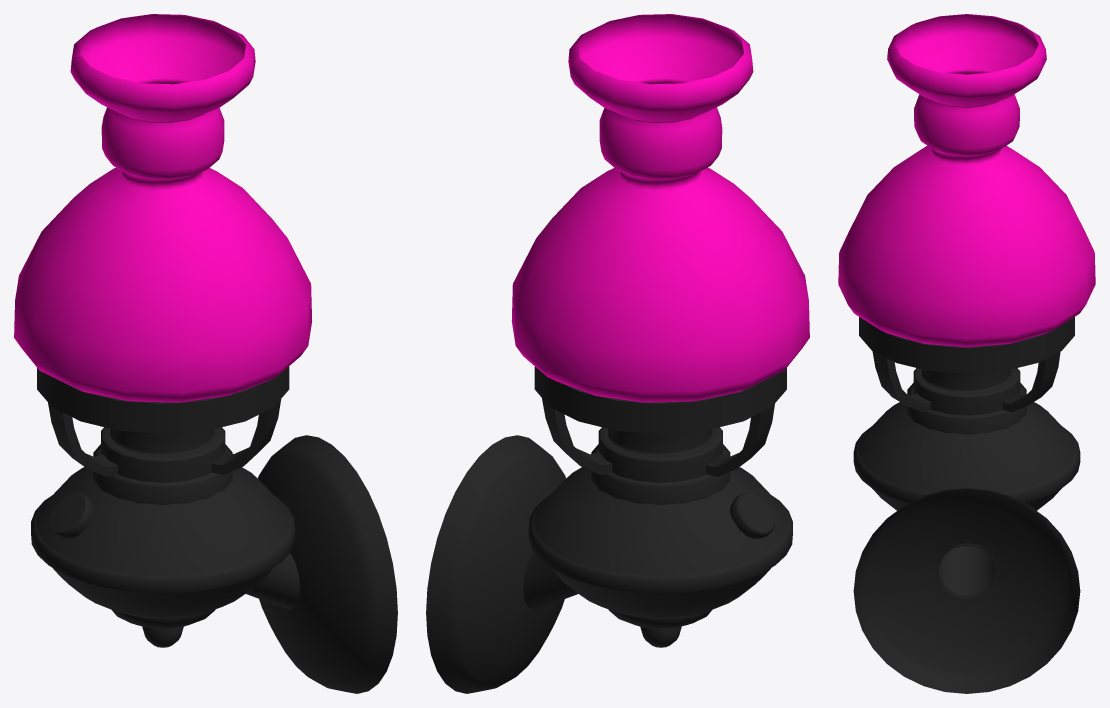
Rendered from SM_Wall_Lantern.FBX.
3 renders of one model, left to right at view 1: azimuth 30°, elevation 25°; view 2: azimuth 150°, elevation 25°; view 3: azimuth 270°, elevation 25°, orthographic. The views are drawn at different scales.
Parts seen in each view (by area): view 1: Line011, Sphere007; view 2: Line011, Sphere007; view 3: Sphere007, Line011.
Part boxes in pixels (<box>): Line011: <box>14,14,311,402</box>; Sphere007: <box>31,366,397,693</box>; Line011: <box>511,14,809,402</box>; Sphere007: <box>426,366,792,693</box>; Sphere007: <box>853,317,1080,693</box>; Line011: <box>838,14,1095,347</box>.
Size of the model in its own units: 31.76 by 68.71 by 27.68.
